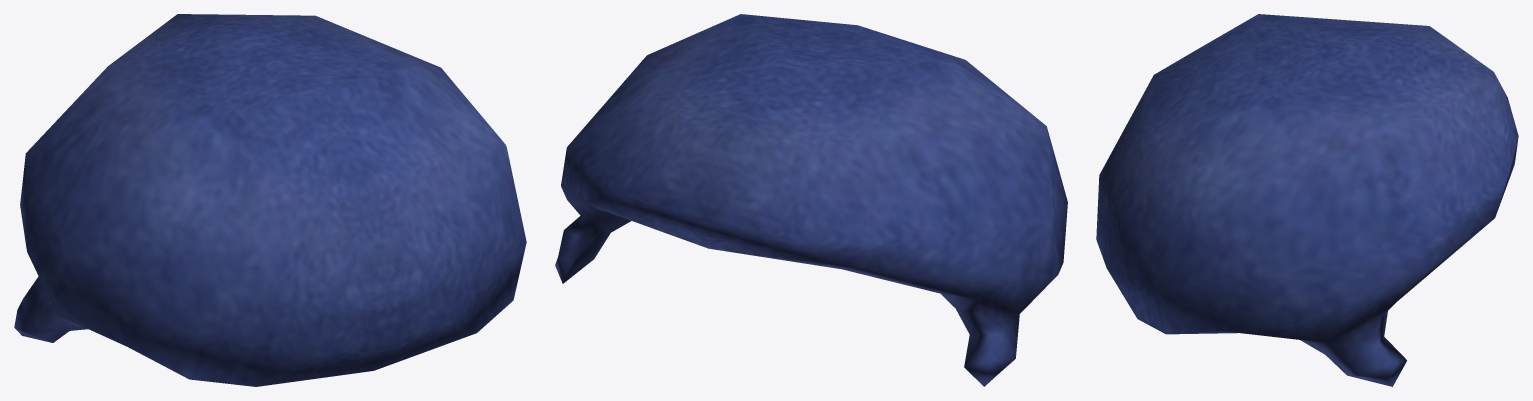
File: afroC.glb
3 views of the same model, side by side, from view 1: azimuth 30°, elevation 25°; view 2: azimuth 150°, elevation 25°; view 3: azimuth 270°, elevation 25° (orthographic). The views are drawn at different scales.
Parts seen in each view (by area): view 1: afroC; view 2: afroC; view 3: afroC.
Part boxes in pixels (left/top/right/bottom): afroC: left=14, top=14, right=526, bottom=386; afroC: left=555, top=14, right=1067, bottom=386; afroC: left=1096, top=14, right=1518, bottom=386.
Bounding box in the file's own units: 1.72 × 0.9354 × 1.47.
1 material, 1 textured.
